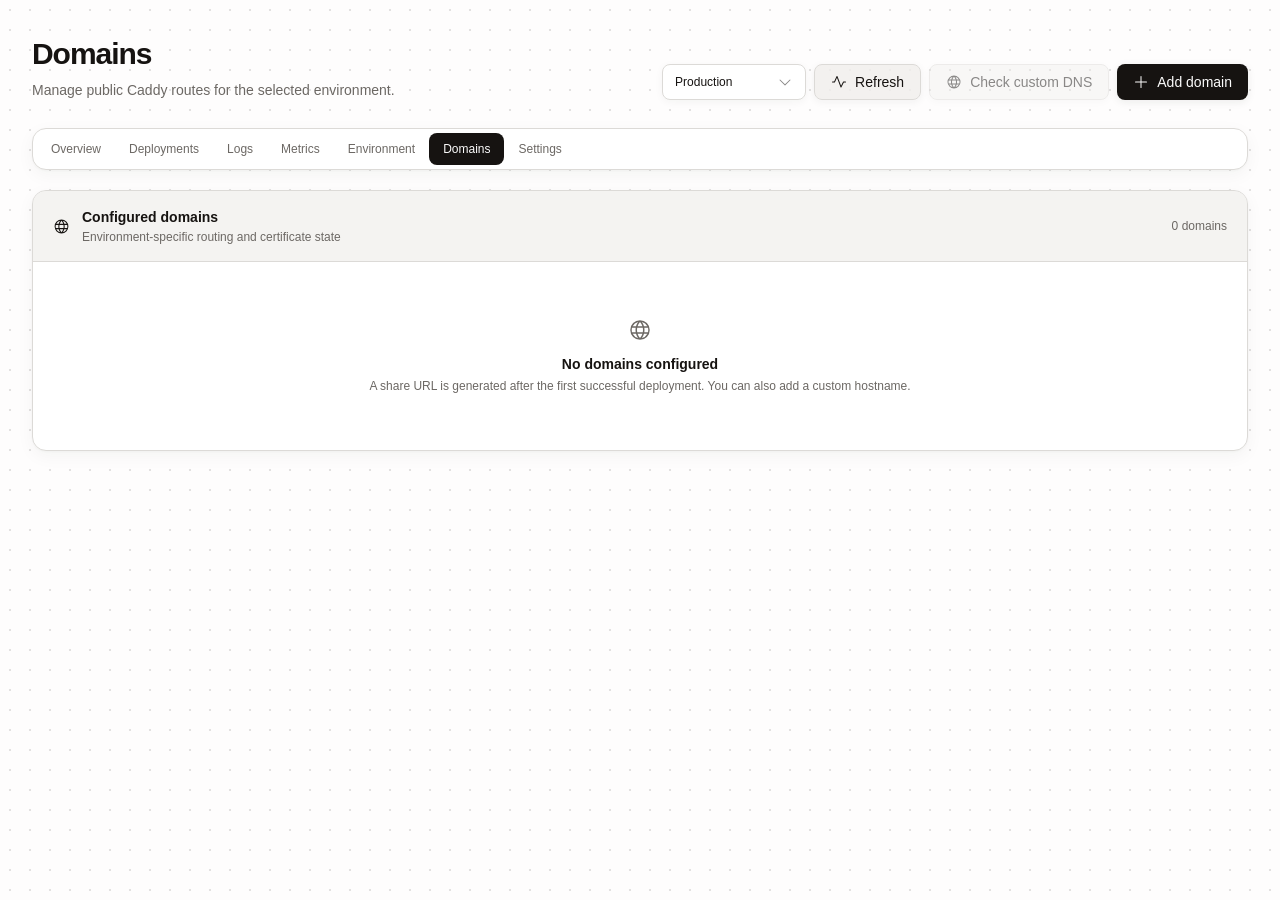
Test: operations screens › creates a service-targeted domain from the empty state
Expected: the text "No domains configured" is shown, 562,356 -> 718,372
Click the button "Add domain".
click(1183, 82)  # box 1117,64 -> 1248,100
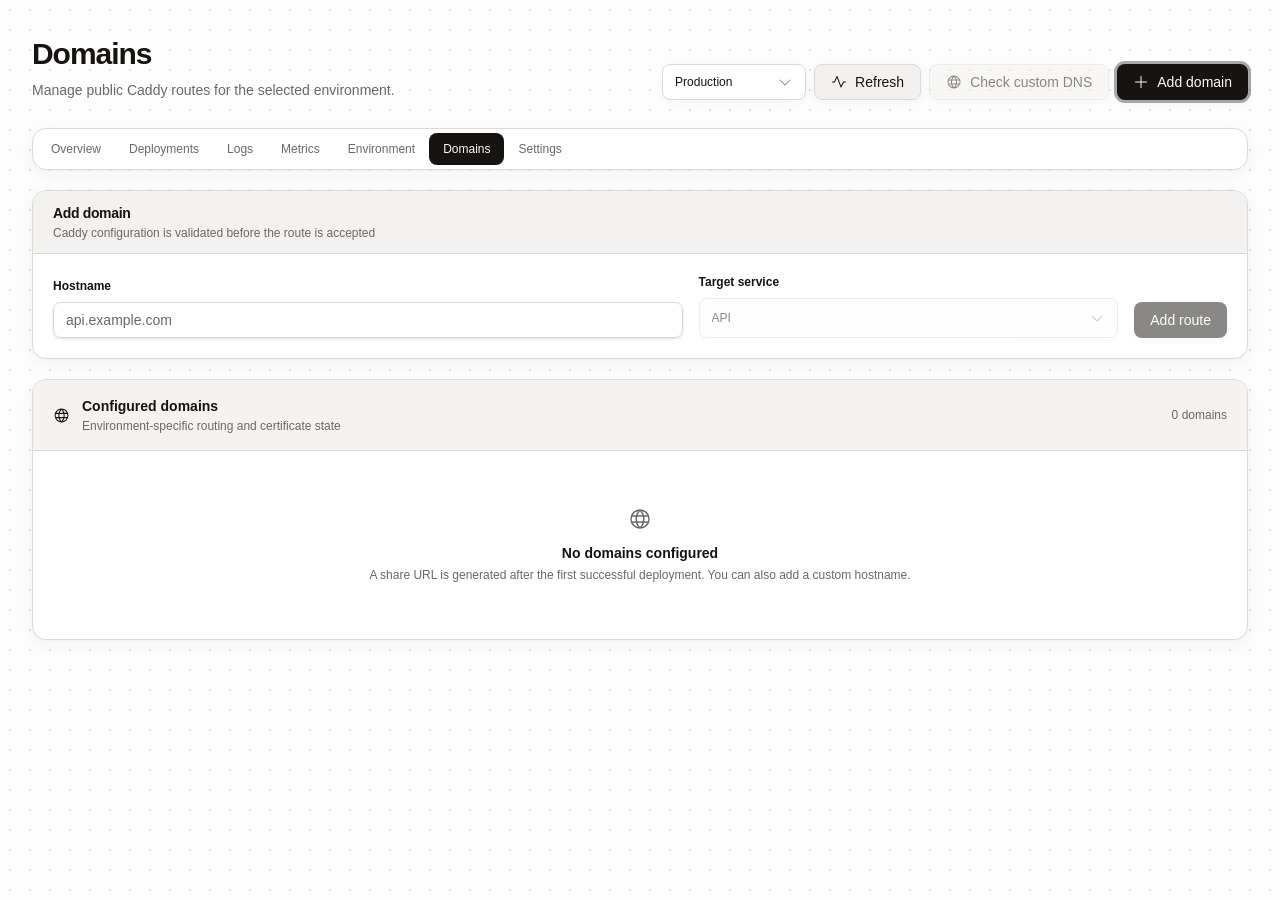
Type "payments.example.test" into the field labelled "Hostname".
click(368, 320); type("payments.example.test")  # box 53,302 -> 683,338
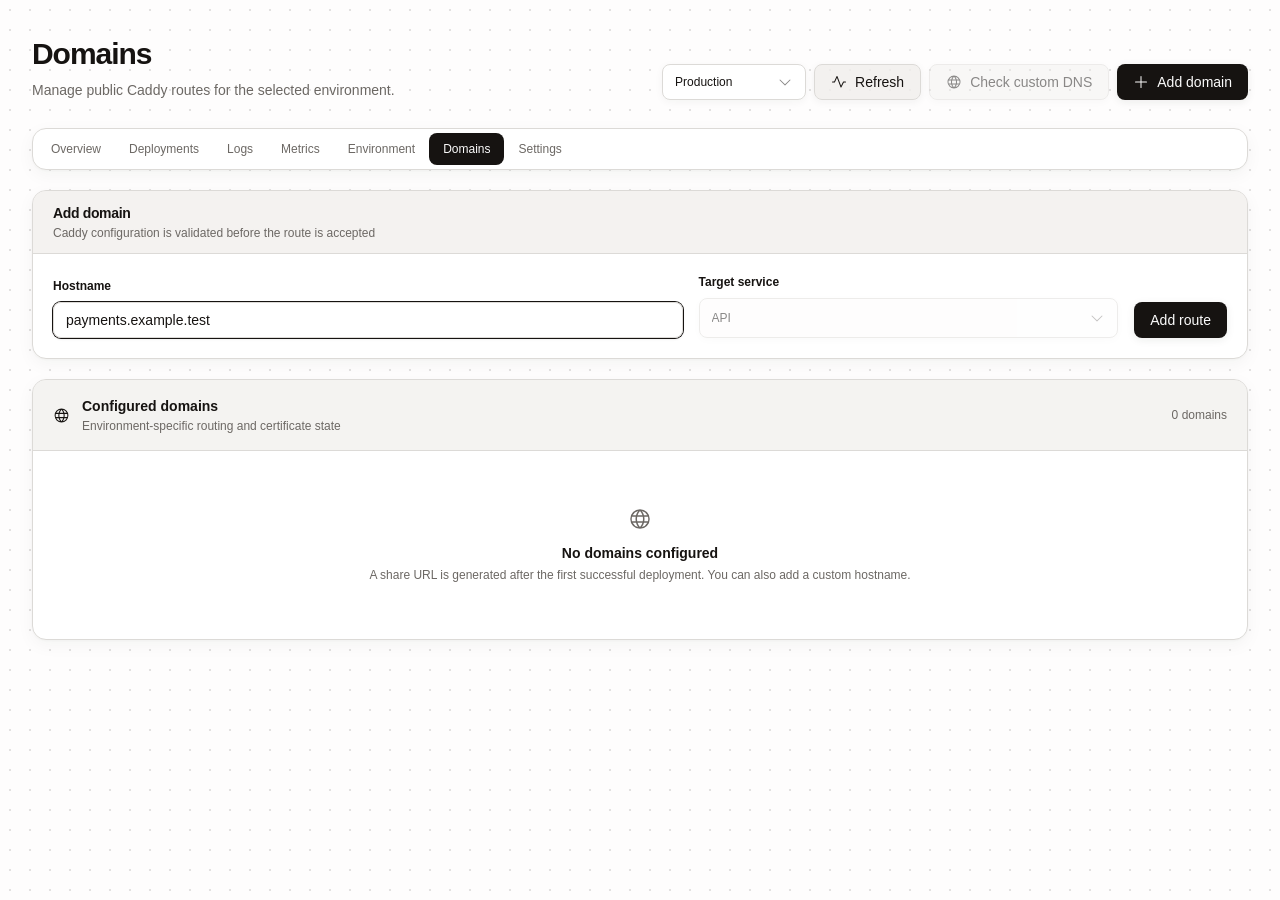
Click the button "Add route".
click(1181, 320)  # box 1134,302 -> 1227,338
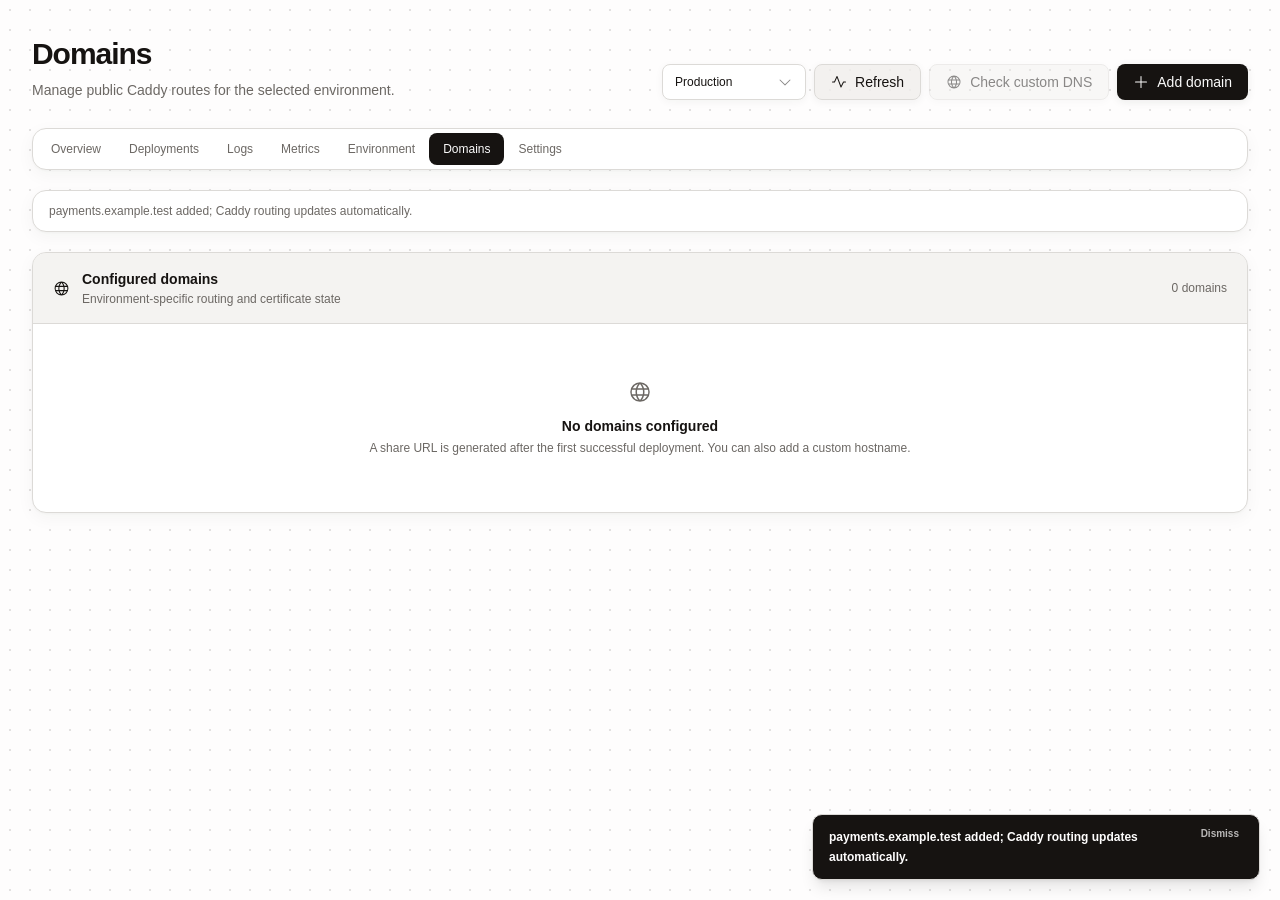
Result: the text "payments.example.test added; Caddy routing updates automatically." is shown 2 times at 32,190 -> 1248,232; 829,827 -> 1185,867
